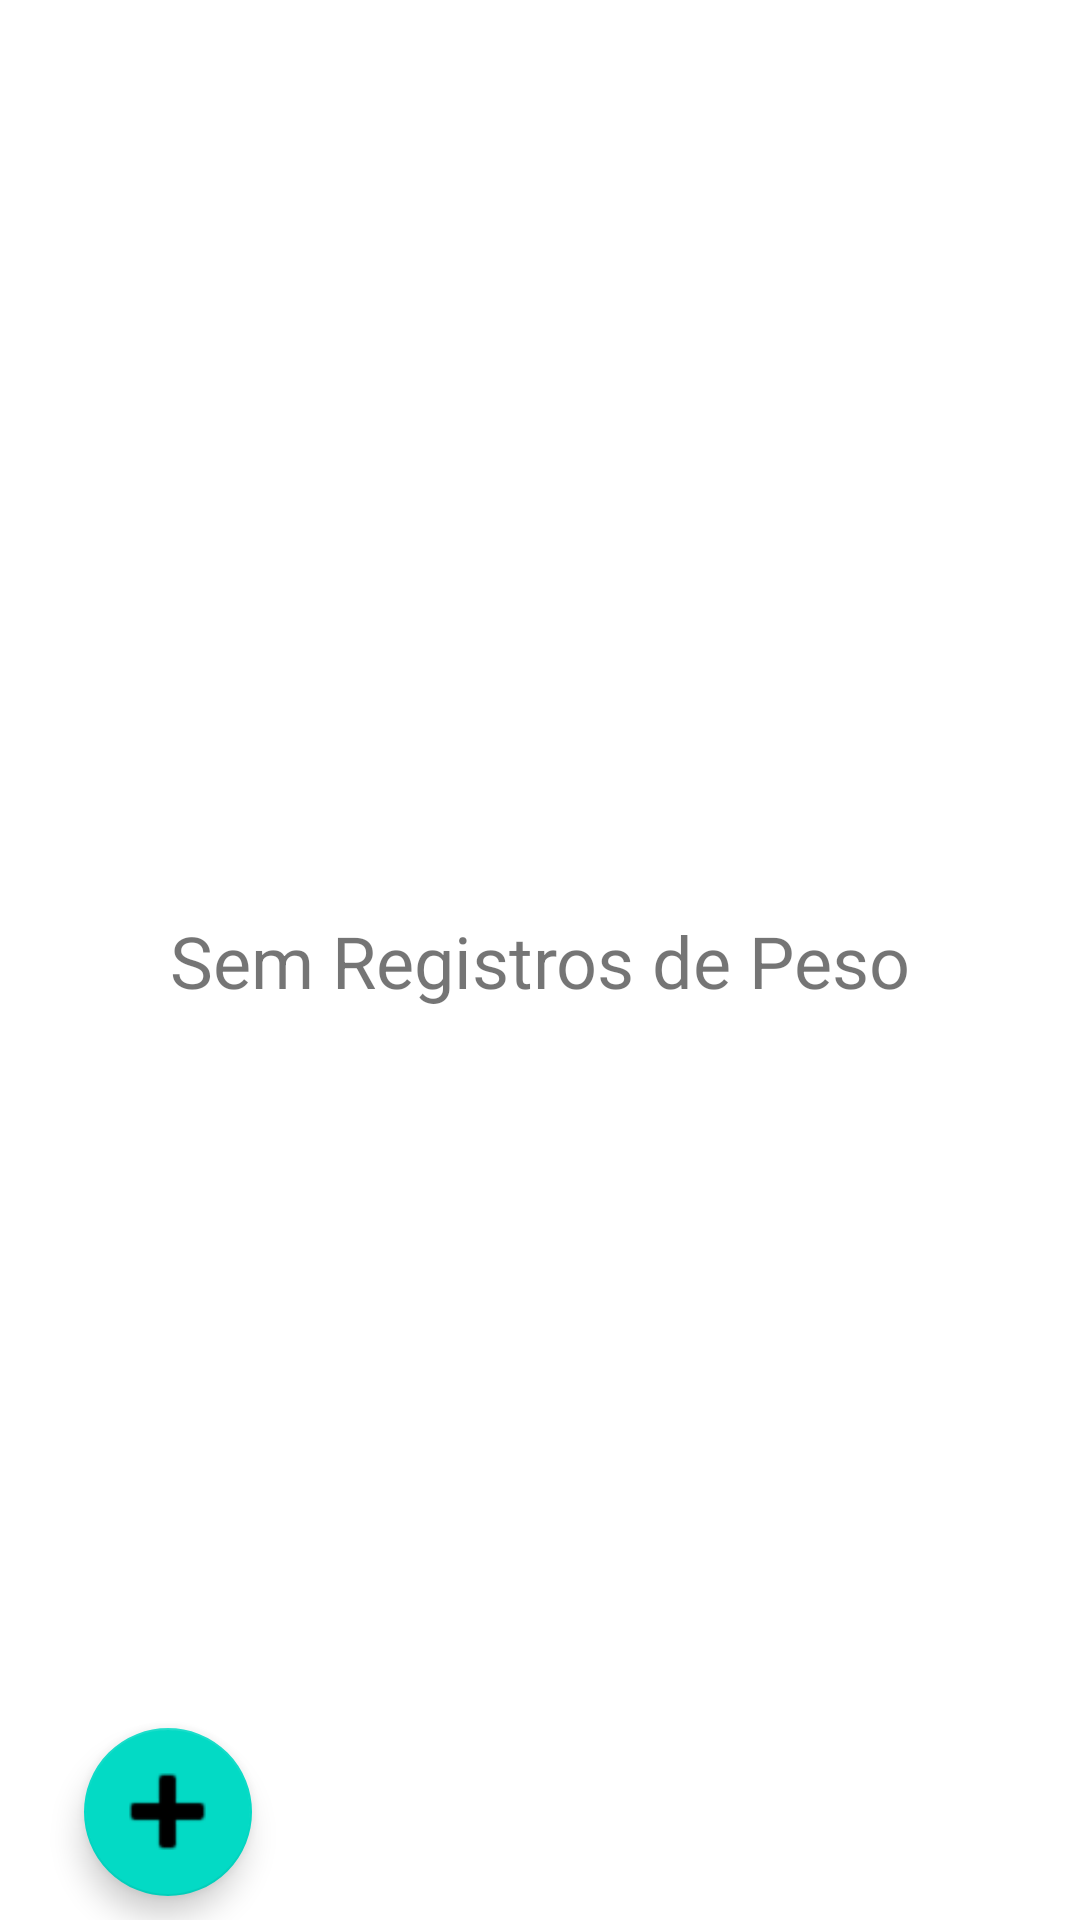

Where to tap for icons on this 1080px×1920px app screen, as (x=x, y=y):
add: (x=168, y=1812)
